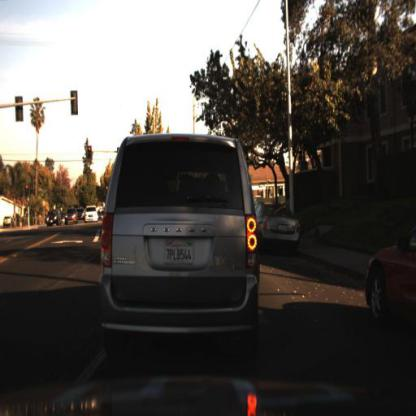car: (102, 136, 257, 349), (366, 214, 416, 344), (251, 202, 300, 245), (104, 194, 120, 231), (83, 203, 103, 226), (65, 210, 80, 228), (47, 209, 61, 228), (2, 212, 14, 231), (59, 206, 67, 227), (77, 207, 86, 225)
trafficLight: (239, 147, 253, 172)
trafficLight-Red: (22, 180, 31, 198)
trafficLight-RedLeft: (87, 144, 95, 167), (24, 184, 31, 204)
